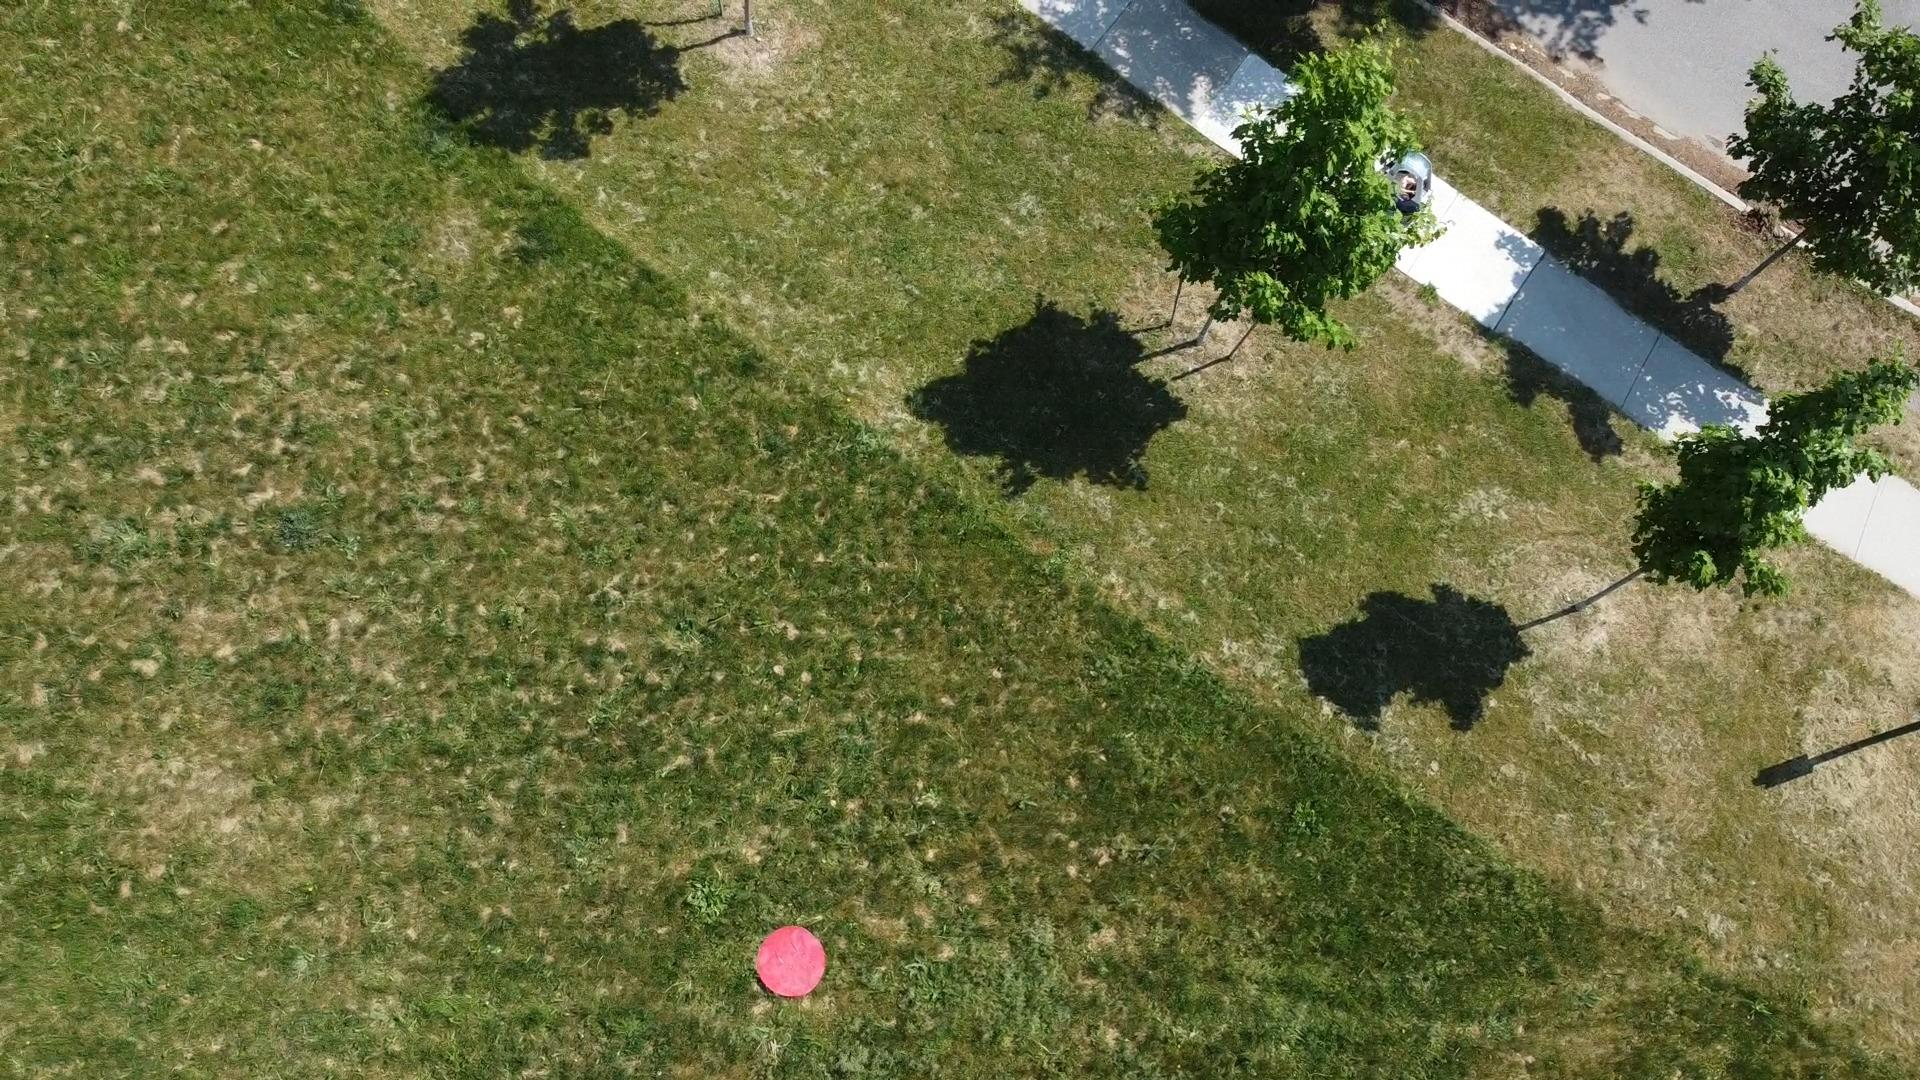Red: (753, 920, 831, 1001)
